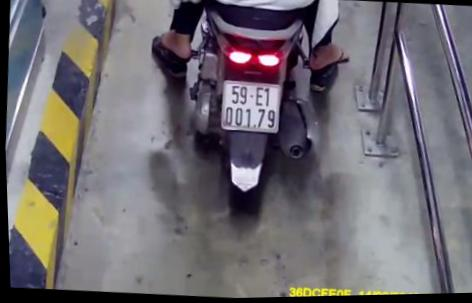LP: (218, 79, 283, 136)
